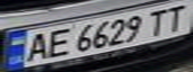2: (109, 16, 133, 47)
6: (90, 18, 115, 51), (72, 20, 96, 53)
9: (121, 12, 148, 43)
A: (18, 30, 54, 63)
E: (42, 26, 72, 60)
T: (157, 1, 193, 31), (142, 7, 172, 37)
